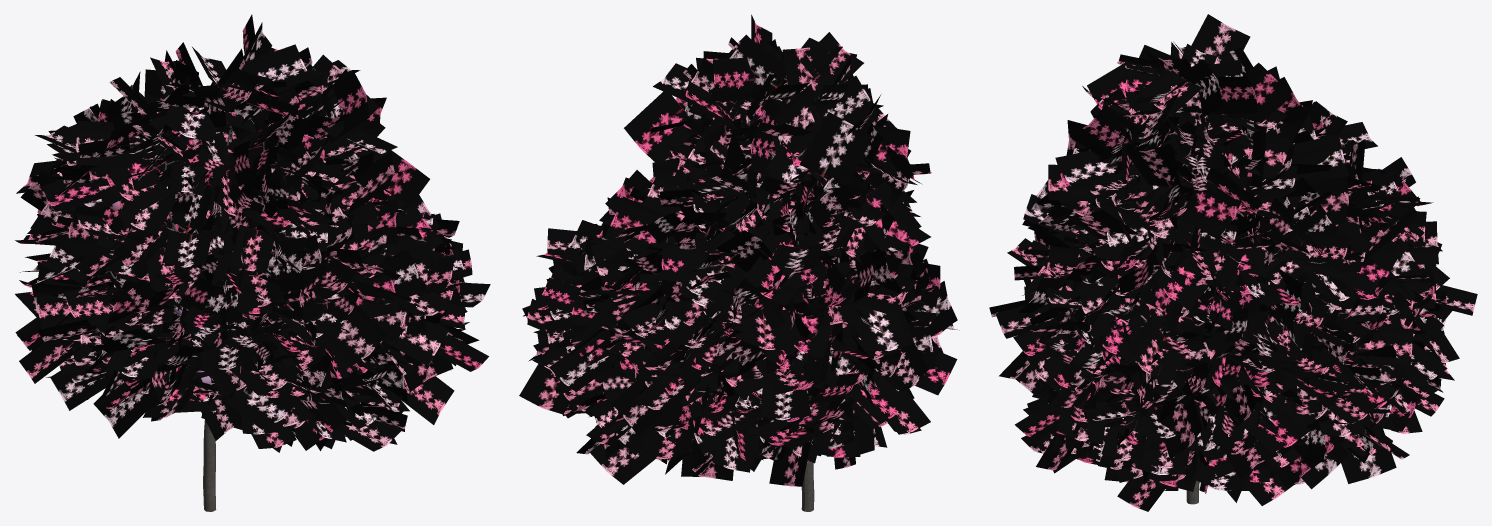
Rendered from tree_17_red_maple.glb.
3 renders of one model, left to right at view 1: azimuth 30°, elevation 25°; view 2: azimuth 150°, elevation 25°; view 3: azimuth 270°, elevation 25°, orthographic.
Visible parts, largest first — view 1: tree_17_red_maple.leaves, tree_17_red_maple.trunk_branches; view 2: tree_17_red_maple.leaves, tree_17_red_maple.trunk_branches; view 3: tree_17_red_maple.leaves.
Boxes of the visible parts, x1,y1,x2,y2 form: tree_17_red_maple.leaves: [15, 14, 490, 452]; tree_17_red_maple.trunk_branches: [105, 125, 284, 511]; tree_17_red_maple.leaves: [519, 14, 959, 486]; tree_17_red_maple.trunk_branches: [664, 78, 814, 511]; tree_17_red_maple.leaves: [989, 14, 1477, 511].
Size of the model in its own units: 7.86 by 8.65 by 8.14.
Materials: 3 (2 with a texture image).
